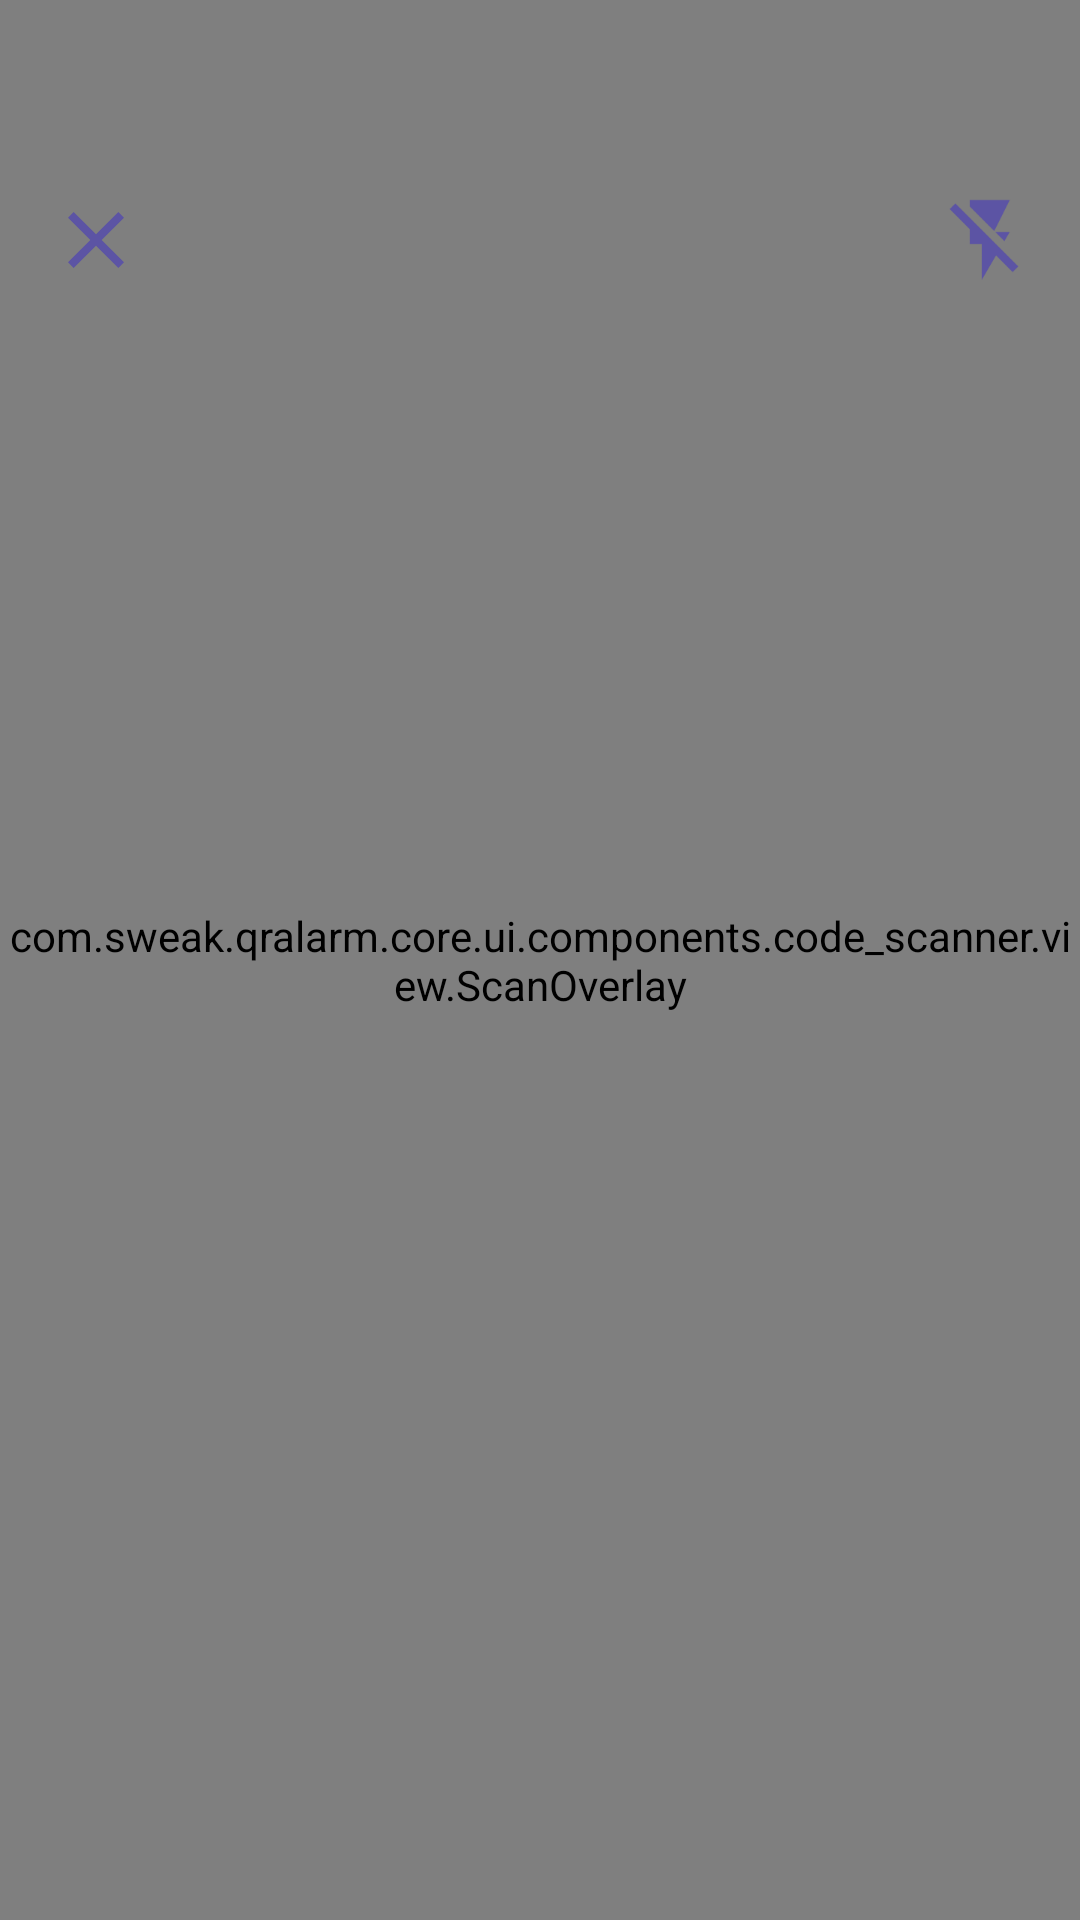

Named icons in this screenshot (1080px x 1920px) and their centers, (x=x, y=y):
Blitzsymbol: (x=984, y=239)
Close icon: (x=96, y=240)
